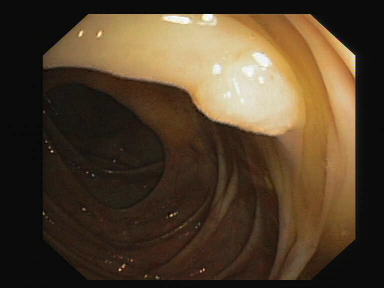polyp: (163, 31, 320, 148)
